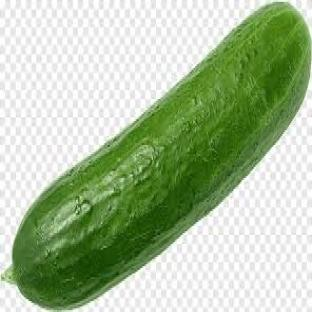Zucchini: (5, 4, 310, 308)
